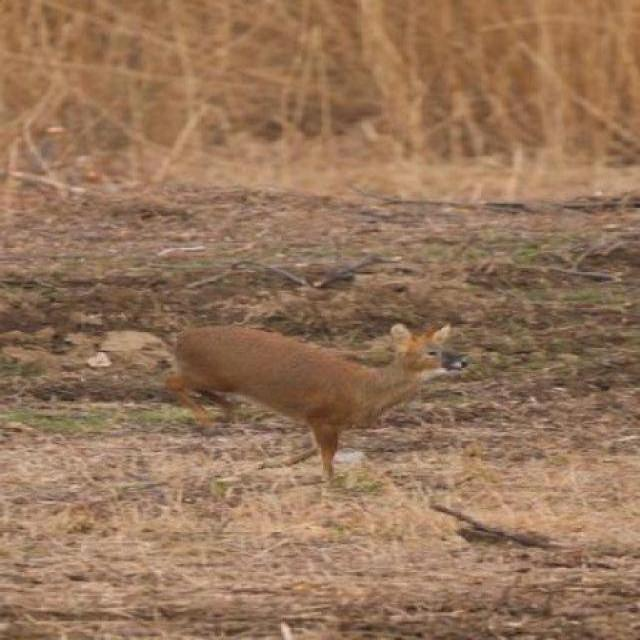deer: (158, 310, 474, 493)
